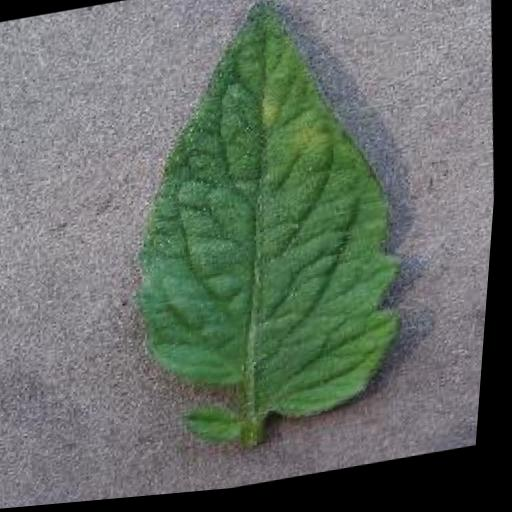Leaf Mold: (110, 0, 429, 454)
